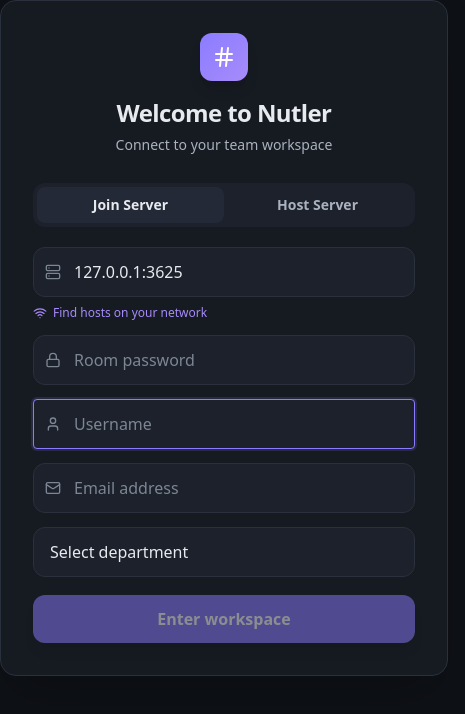
Scenario: LoginView › shows a friendly note when no hosts are found
Click the button "Find hosts on your network": (120, 313) [33,305,207,321]
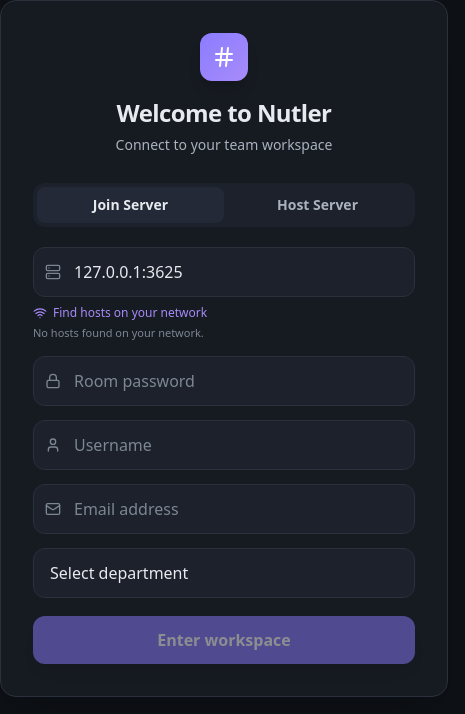
Check: the text "No hosts found on your network." is shown, box [33,325,204,340]
